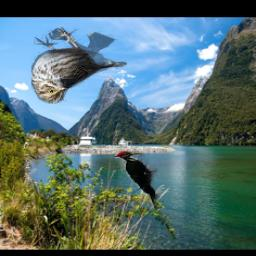Sparrow: (31, 27, 127, 103)
Woodpecker: (114, 151, 163, 209)
